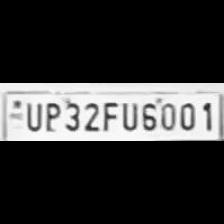0: (176, 99, 196, 131), (158, 99, 176, 131)
1: (198, 99, 216, 131)
2: (80, 100, 100, 132)
3: (60, 98, 80, 132)
6: (138, 100, 158, 132)
F: (100, 100, 118, 132)
P: (42, 100, 60, 132)
U: (22, 99, 42, 131), (118, 99, 138, 131)
